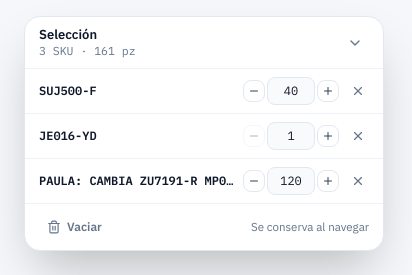
Test: [INV-B8.2] PanelSeleccion › un campo que queda vacío al salir REVIERTE al valor que había
The image size is (412, 275).
Clear the field named "Cantidad de SUJ500-F" at (291, 91), box [267,77,315,105]
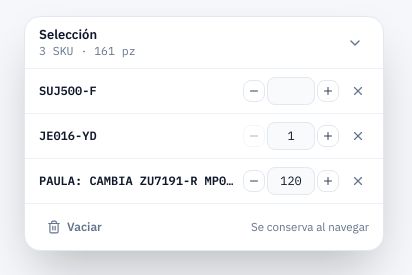
Leave the field named "Cantidad de SUJ500-F", box [267,77,315,105]
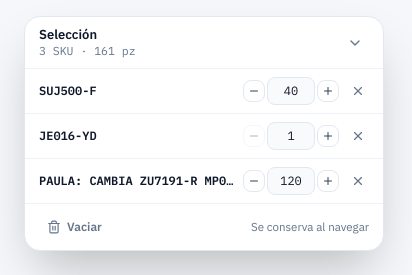
Now the field named "Cantidad de SUJ500-F" holds "40", box [267,77,315,105]
